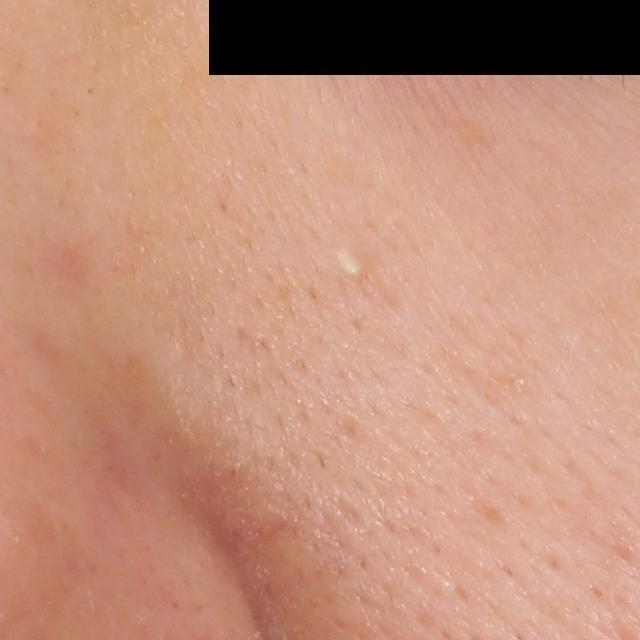comedo: (339, 249, 363, 281)
